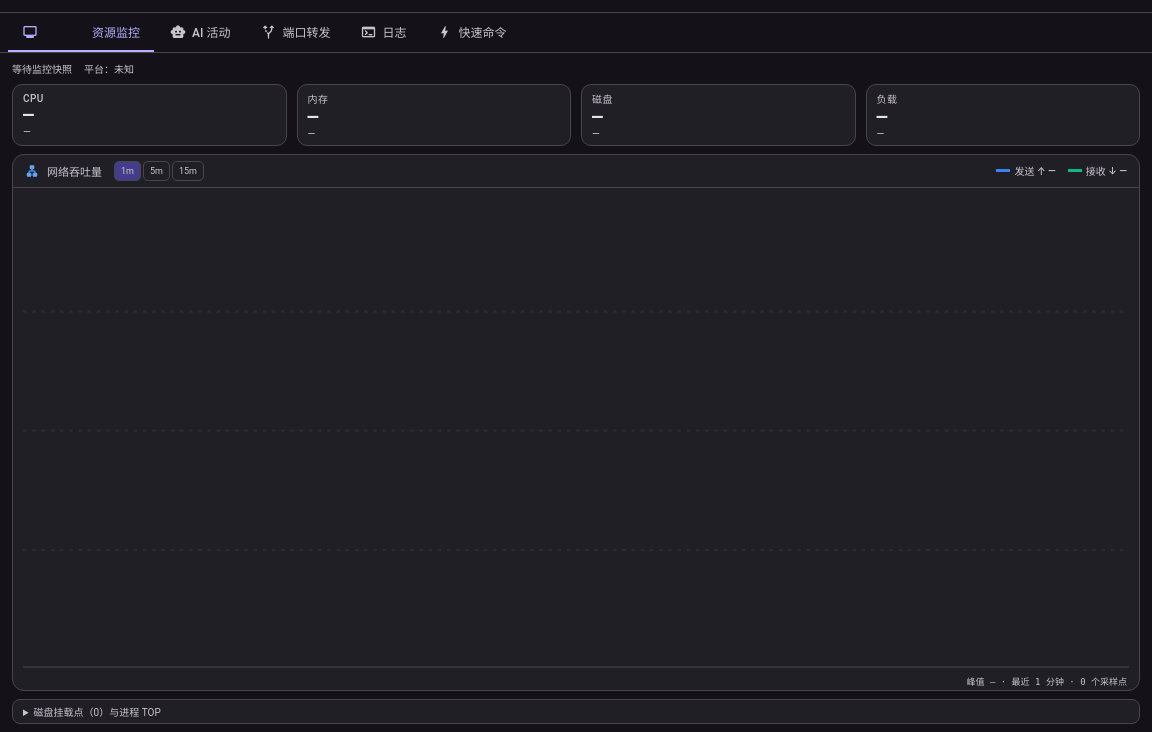
it: AI 审批与活动展示 › 展示拒绝、超时以及来源、规则和原因
Click the button "AI 活动". click: (200, 32)
box: x1=156 y1=13 x2=244 y2=52
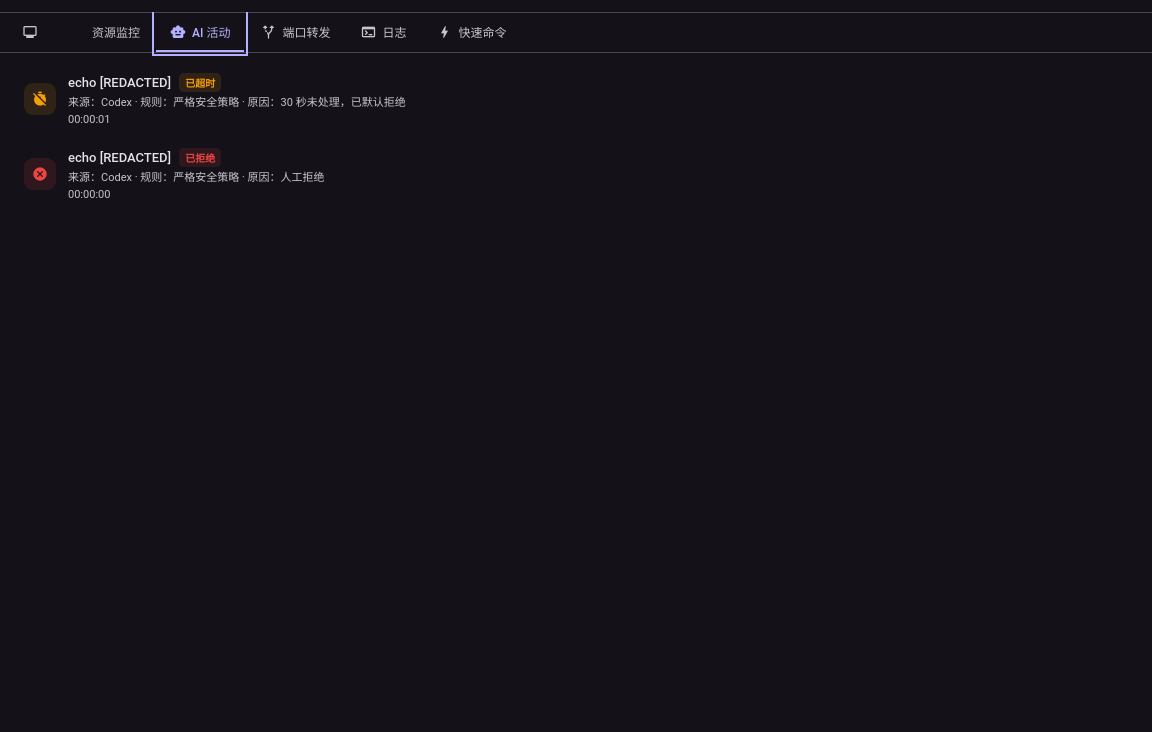
Check: the text "已拒绝" is shown, box x1=179 y1=148 x2=221 y2=167
Check: the text "已超时" is shown, box x1=179 y1=73 x2=221 y2=92
Check: the text "来源：Codex · 规则：严格安全策略 · 原因：30 秒未处理，已默认拒绝" is shown 2 times, box x1=68 y1=96 x2=406 y2=109; x1=68 y1=171 x2=325 y2=184
